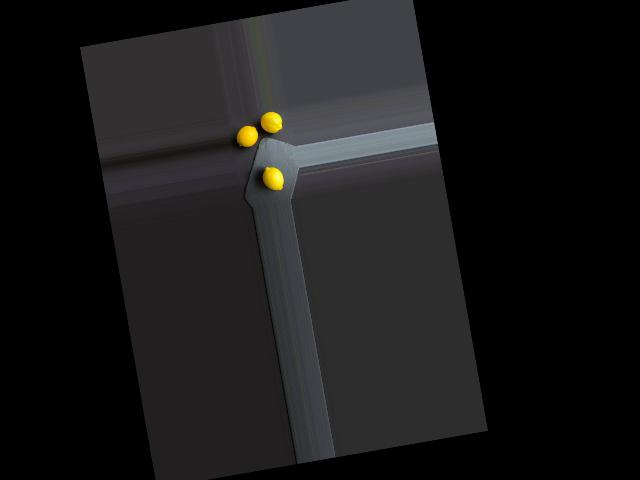lemon: (257, 108, 285, 137)
